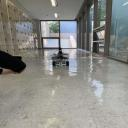cart: (52, 54, 69, 66)
